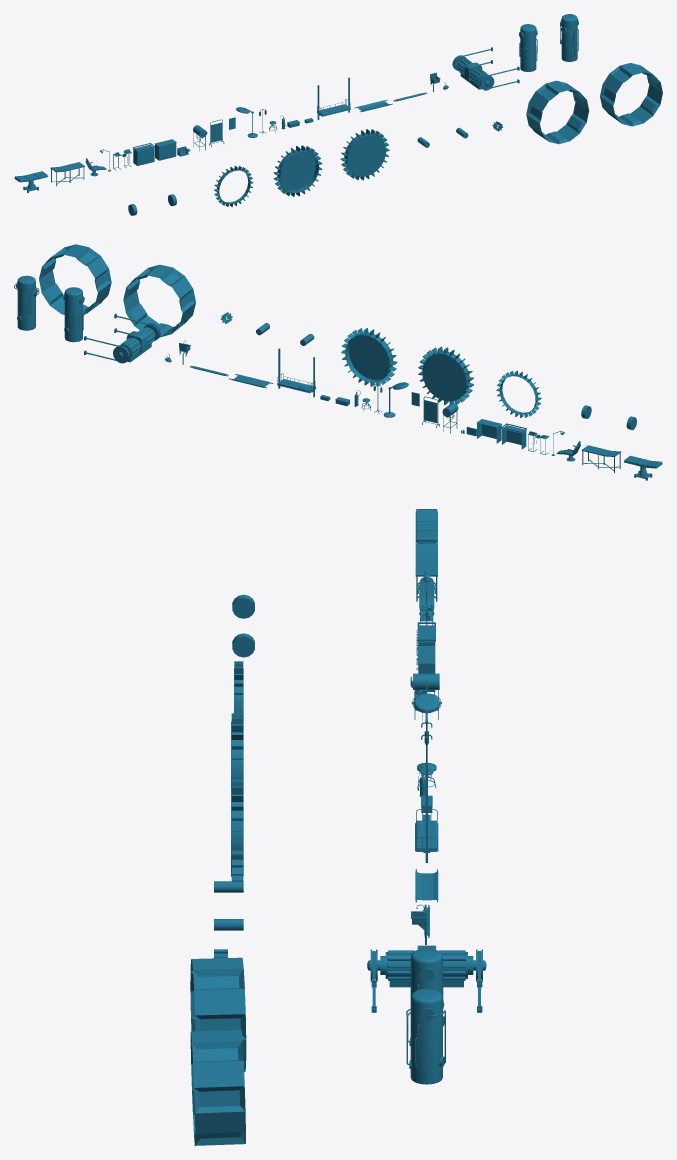
The model's file is meble_set8.FBX.
3 views of the same model, one above another, from view 1: azimuth 30°, elevation 25°; view 2: azimuth 150°, elevation 25°; view 3: azimuth 270°, elevation 25° (orthographic). The views are drawn at different scales.
Parts seen in each view (by area): view 1: turbina_anim1, turbina_anim2, duzy_generator_anim4, duzy_generator_anim2, silnik_winda, sredni_bojler1, sredni_bojler2, duzy_generator_anim3, szafka_leki1, lozko_chory, szafka_leki2, lezanka (+1 smaller); view 2: duzy_generator_anim2, duzy_generator_anim4, turbina_anim1, turbina_anim2, silnik_winda, sredni_bojler2, sredni_bojler1, duzy_generator_anim3, lozko_chory, szafka_leki1, szafka_leki2, stol_operacyjny (+2 smaller); view 3: turbina_anim2, turbina_anim1, sredni_bojler1, silnik_winda, sredni_bojler2, duzy_generator_anim2, lozko_chory.
Part boxes in pixels (box(x1,y1,x2,y2)): turbina_anim1: box(526, 80, 589, 144); turbina_anim2: box(600, 63, 662, 126); duzy_generator_anim4: box(273, 145, 322, 196); duzy_generator_anim2: box(340, 129, 389, 180); silnik_winda: box(452, 47, 519, 90); sredni_bojler1: box(560, 14, 578, 61); sredni_bojler2: box(519, 24, 537, 71); duzy_generator_anim3: box(214, 165, 253, 207); szafka_leki1: box(132, 143, 155, 165); lozko_chory: box(317, 77, 350, 119); szafka_leki2: box(154, 139, 176, 160); lezanka: box(50, 162, 84, 186); duzy_generator_anim2: box(341, 328, 397, 386); duzy_generator_anim4: box(418, 346, 473, 404); turbina_anim1: box(123, 264, 195, 337); turbina_anim2: box(39, 244, 111, 314); silnik_winda: box(84, 313, 160, 363); sredni_bojler2: box(63, 287, 84, 342); sredni_bojler1: box(14, 275, 39, 330); duzy_generator_anim3: box(496, 370, 541, 417); lozko_chory: box(277, 348, 316, 397); szafka_leki1: box(501, 423, 526, 449); szafka_leki2: box(477, 419, 501, 443); stol_operacyjny: box(624, 455, 662, 480); turbina_anim2: box(190, 1029, 245, 1145); turbina_anim1: box(190, 957, 246, 1071); sredni_bojler1: box(406, 988, 445, 1084); silnik_winda: box(367, 945, 486, 1012); sredni_bojler2: box(410, 948, 444, 1026); duzy_generator_anim2: box(231, 779, 243, 881); lozko_chory: box(415, 763, 438, 862).
Size of the model in its own units: 42.79 by 4.74 by 9.33.
